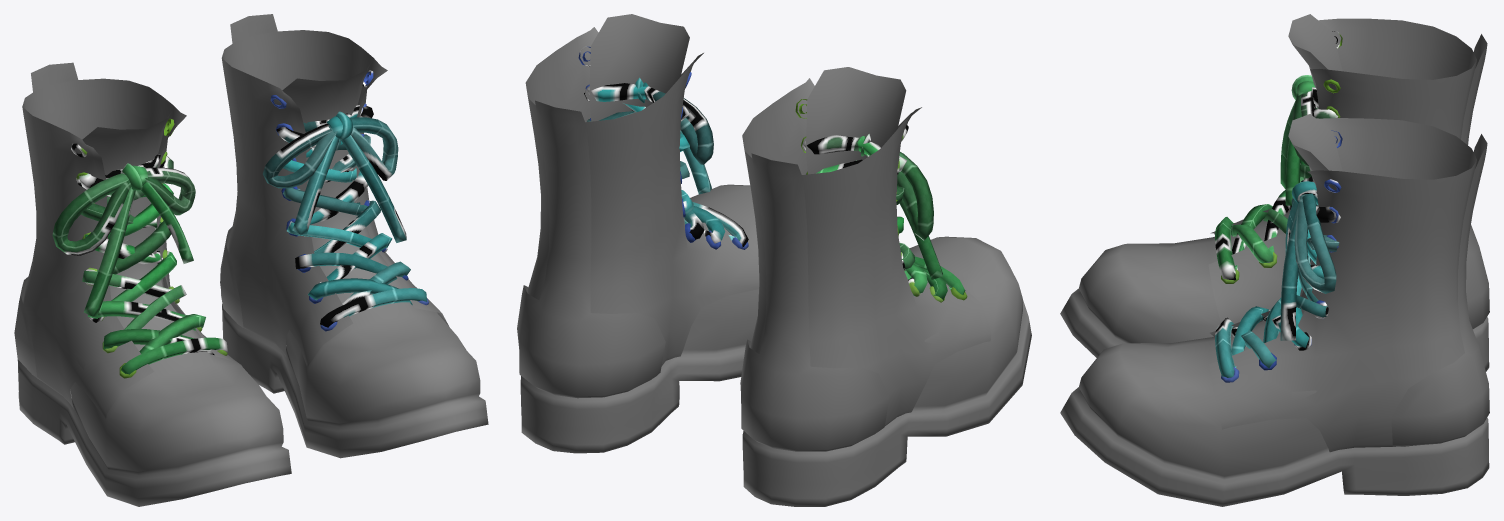
The model's file is boots.glb.
The picture shows the model from 3 angles, left to right: view 1: azimuth 30°, elevation 25°; view 2: azimuth 150°, elevation 25°; view 3: azimuth 270°, elevation 25°; orthographic projection. The views are drawn at different scales.
Parts seen in each view (by area): view 1: char.cloth.boots.001, char.cloth.boots; view 2: char.cloth.boots.001, char.cloth.boots; view 3: char.cloth.boots.001, char.cloth.boots.
Boxes of the visible parts, x1,y1,x2,y2 form: char.cloth.boots.001: [14, 14, 488, 506]; char.cloth.boots: [52, 70, 428, 378]; char.cloth.boots.001: [517, 14, 1031, 506]; char.cloth.boots: [578, 46, 967, 302]; char.cloth.boots.001: [1060, 14, 1489, 506]; char.cloth.boots: [1215, 31, 1342, 382].
Size of the model in its own units: 0.2555 by 0.2337 by 0.2687.
Materials: 2 (2 with a texture image).
